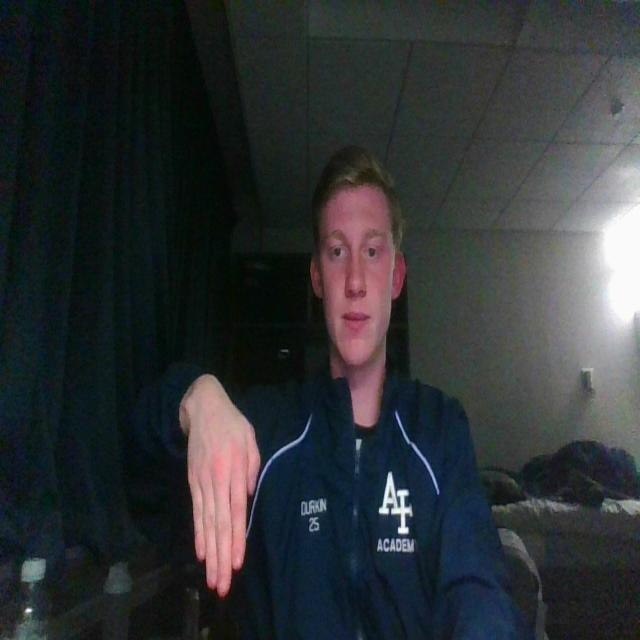paper: (178, 376, 264, 604)
